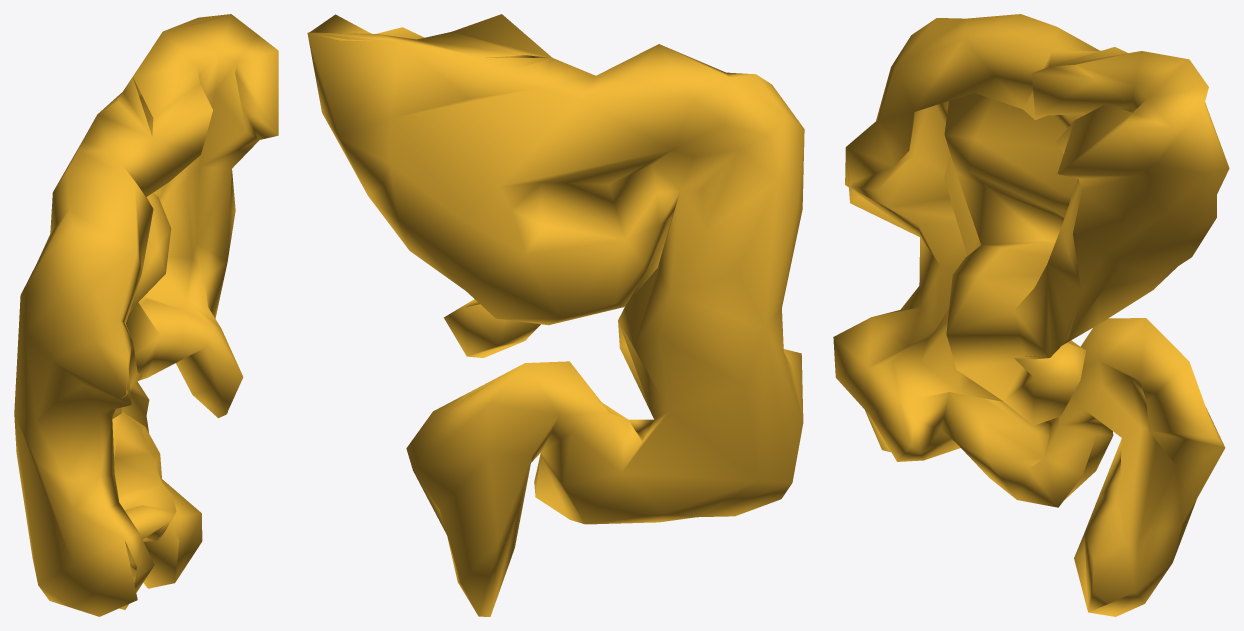
Rendered from nervoso-lateral-occipital-gyrus-middle-occipital-gyrus-r.glb.
3 renders of one model, left to right at view 1: azimuth 30°, elevation 25°; view 2: azimuth 150°, elevation 25°; view 3: azimuth 270°, elevation 25°, orthographic. The views are drawn at different scales.
Parts seen in each view (by area): view 1: Lateral occipital gyrus (Middle occipital gyrus*).r; view 2: Lateral occipital gyrus (Middle occipital gyrus*).r; view 3: Lateral occipital gyrus (Middle occipital gyrus*).r.
Part boxes in pixels (x1,y1,x2,y2): Lateral occipital gyrus (Middle occipital gyrus*).r: (14,14,278,616); Lateral occipital gyrus (Middle occipital gyrus*).r: (307,14,804,616); Lateral occipital gyrus (Middle occipital gyrus*).r: (833,14,1229,616).
Size of the model in its own units: 0.03 by 0.045 by 0.0277.
